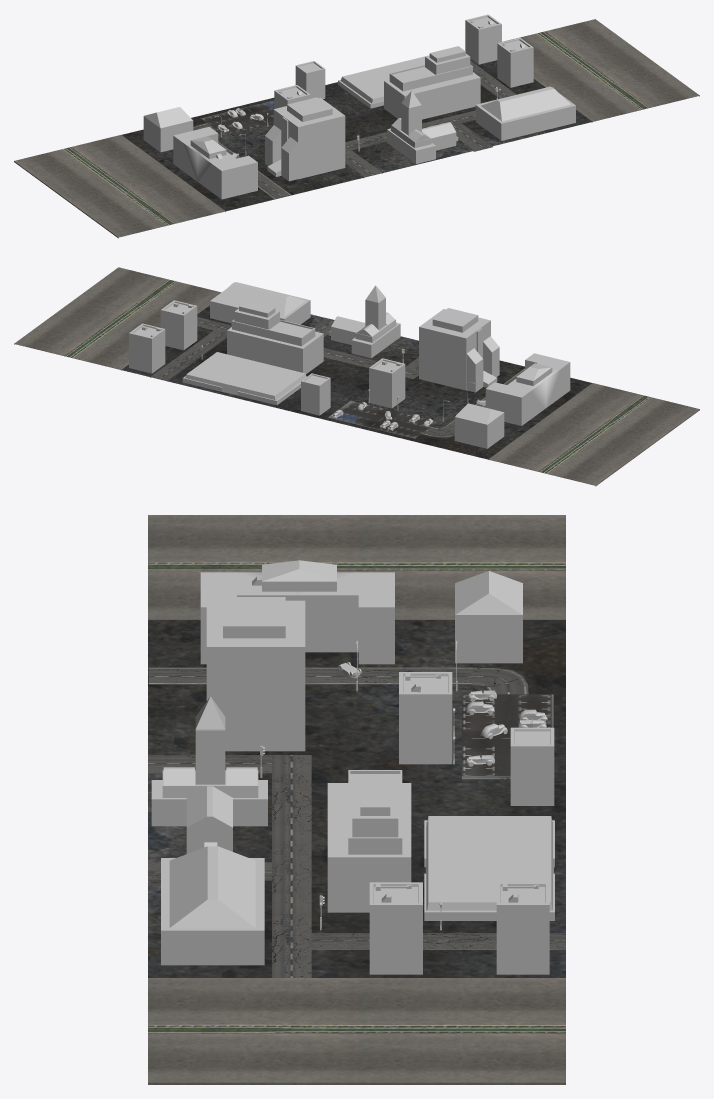
Rendered from Block_11.fbx.
The picture shows the model from 3 angles, top to bottom: view 1: azimuth 30°, elevation 25°; view 2: azimuth 150°, elevation 25°; view 3: azimuth 270°, elevation 25°; orthographic projection. The views are drawn at different scales.
Visible parts, largest first — view 1: pasted__polySurface1336; view 2: pasted__polySurface1336; view 3: pasted__polySurface1336.
Boxes of the visible parts, bbox=[...] form: pasted__polySurface1336: bbox=[14, 14, 699, 238]; pasted__polySurface1336: bbox=[14, 267, 699, 486]; pasted__polySurface1336: bbox=[148, 515, 565, 1084].
Bounding box in the file's own units: 459 × 143 × 47.54.
